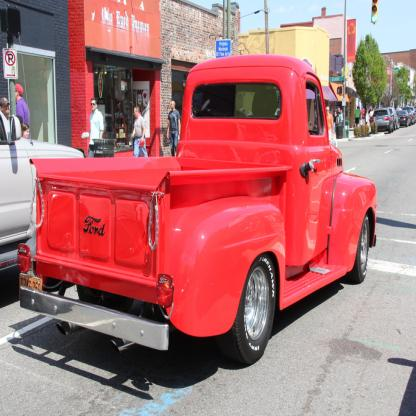Car: (372, 107, 416, 135)
